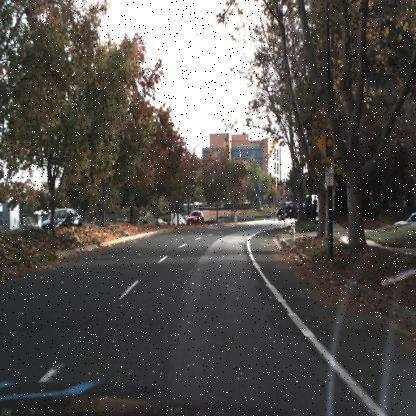car: (41, 206, 82, 238), (184, 206, 204, 226)
truck: (273, 198, 302, 224)
